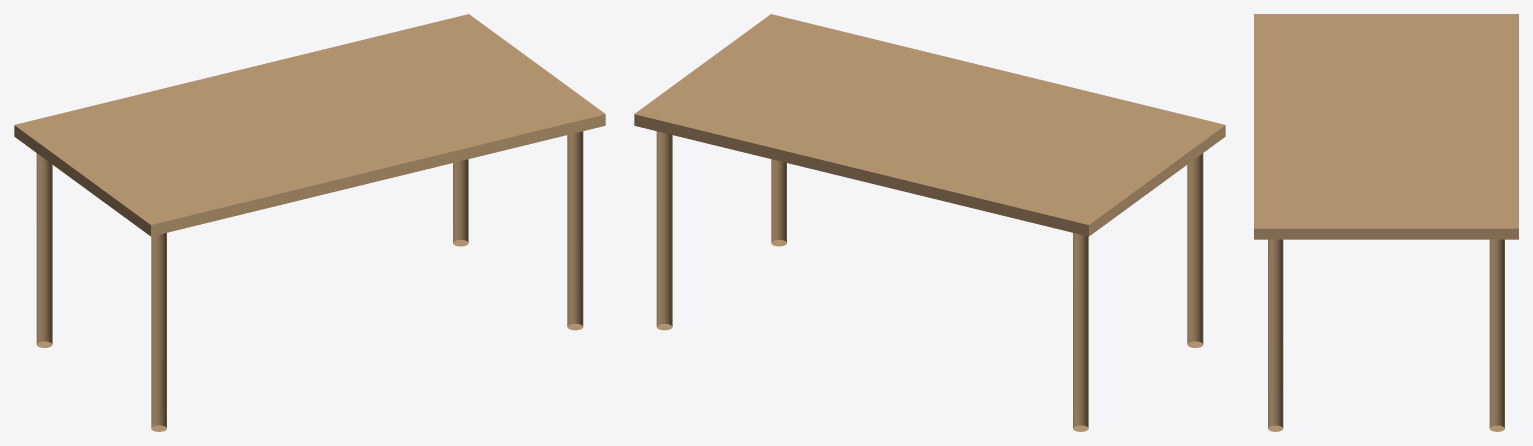
Rendered from dining_table_07.glb.
The picture shows the model from 3 angles, left to right: view 1: azimuth 30°, elevation 25°; view 2: azimuth 150°, elevation 25°; view 3: azimuth 270°, elevation 25°; orthographic projection. The views are drawn at different scales.
Bounding box in the file's own units: 1.65 × 0.75 × 0.86.
